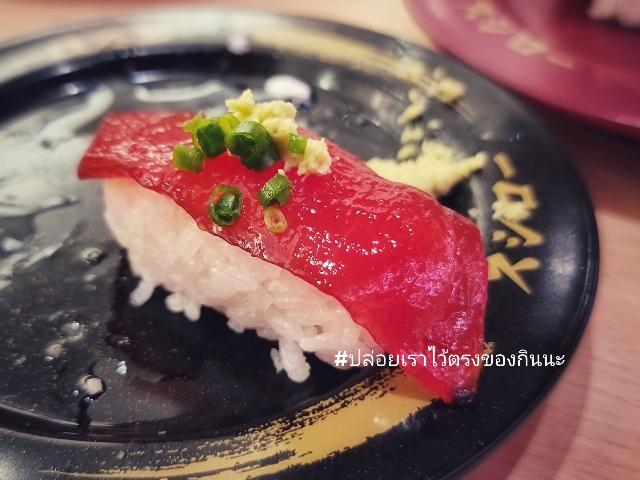janback: (0, 9, 587, 472)
janred: (404, 0, 638, 147)
